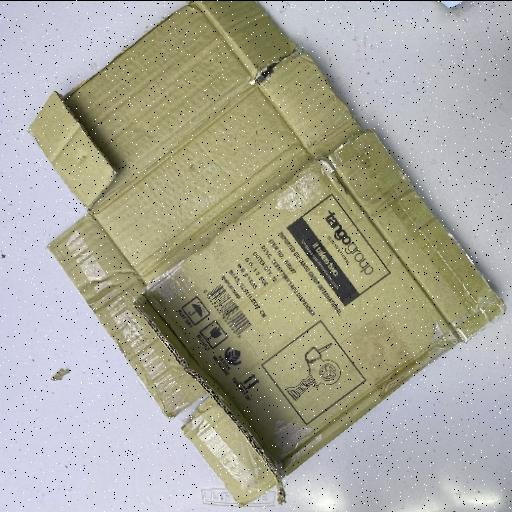Cardboard: (26, 2, 506, 507)
